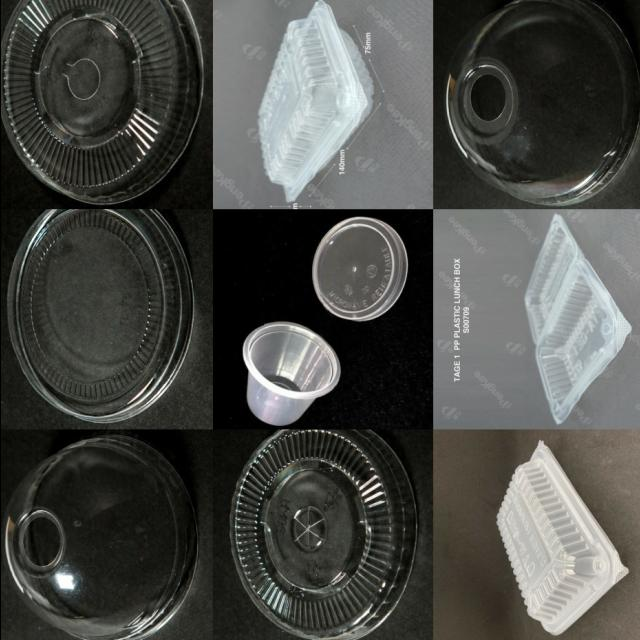plastik: (0, 0, 200, 203), (445, 0, 640, 206), (2, 435, 196, 640), (7, 211, 192, 423), (229, 432, 414, 640), (496, 441, 627, 635), (258, 1, 372, 202), (523, 214, 630, 424), (242, 322, 339, 426), (312, 217, 407, 321)
